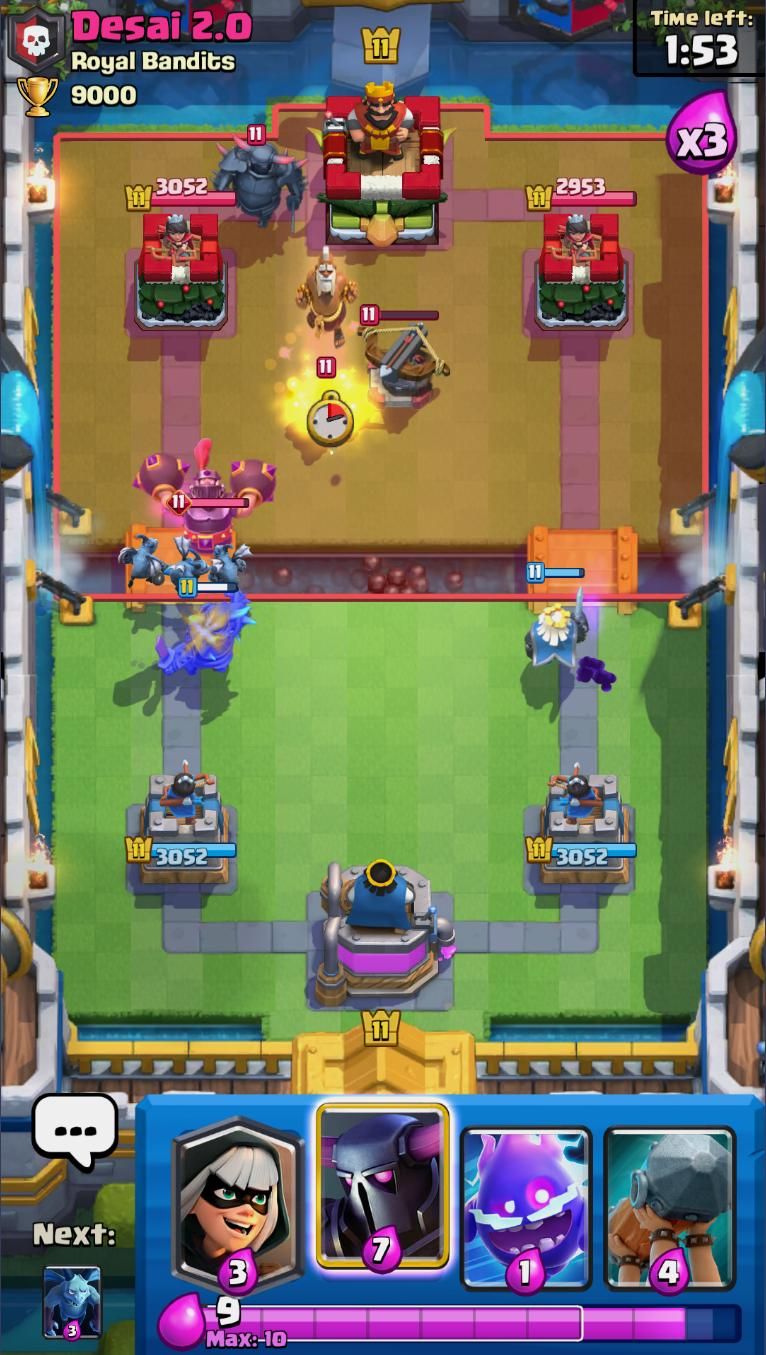BanditDeck: (167, 1095, 310, 1296)
BattleRamDeck: (598, 1094, 743, 1296)
ElectroSpiritDeck: (456, 1094, 598, 1295)
Elixir: (203, 1295, 744, 1350)
EnemyTower: (533, 208, 631, 331), (133, 210, 229, 335)
EvoMegaKnight: (130, 439, 280, 551)
KingTower: (308, 82, 456, 248)
MinionsNext: (40, 1264, 105, 1344)
Monk: (298, 246, 359, 351)
MyKingTower: (319, 856, 458, 1009)
MyMinion: (119, 534, 170, 590), (164, 536, 210, 595), (205, 540, 254, 594)
MyPekka: (155, 580, 255, 683)
MyPrincessTower: (524, 771, 639, 887), (125, 769, 238, 887)
MyPrincessTowerHP: (125, 836, 238, 868), (525, 835, 637, 867)
MyRoyaleGhost: (525, 560, 589, 669)
Pekka: (213, 126, 309, 229)
PekkaDeck: (311, 1095, 455, 1296)
PrincessTower: (546, 213, 603, 264), (144, 214, 200, 264)
TowerPrincessHP: (126, 178, 239, 213), (526, 178, 639, 212)
XBow: (356, 301, 453, 413)
